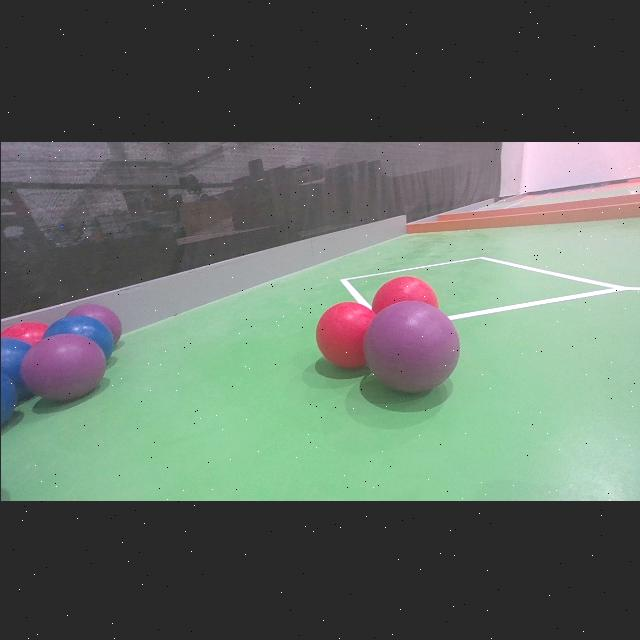B: (42, 314, 114, 361), (0, 334, 28, 426)
P: (362, 299, 458, 391), (20, 332, 104, 402), (60, 304, 120, 326)
R: (315, 299, 375, 366), (370, 274, 436, 326), (0, 325, 50, 355)
